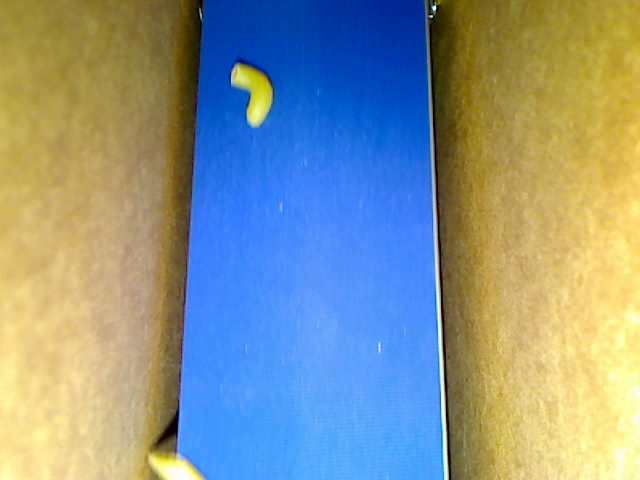elbow: (231, 63, 272, 128)
penne: (147, 452, 206, 479)
